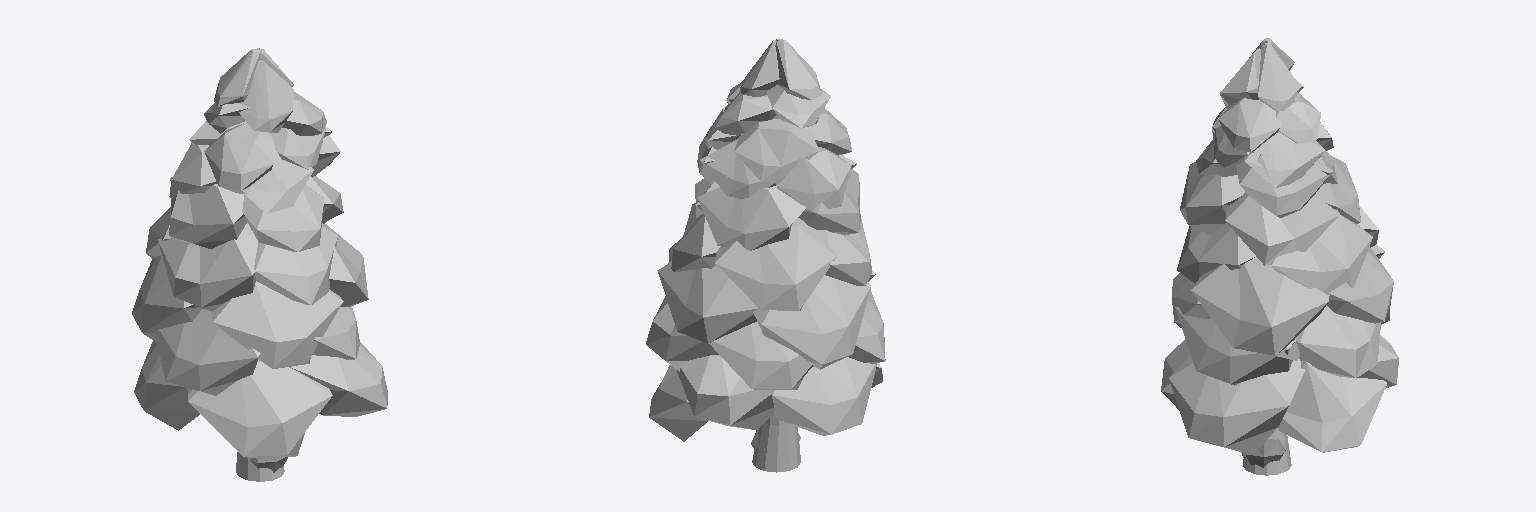
File: PineTree1.obj
The picture shows the model from 3 angles: view 1: azimuth 30°, elevation 25°; view 2: azimuth 150°, elevation 25°; view 3: azimuth 270°, elevation 25°; orthographic projection.
Visible parts, largest first — view 1: Cylinder; view 2: Cylinder; view 3: Cylinder, Cube.
Boxes of the visible parts, x1,y1,x2,y2 form: Cylinder: [132, 48, 387, 481]; Cylinder: [646, 39, 885, 472]; Cylinder: [1161, 38, 1398, 475]; Cube: [1241, 437, 1287, 467].
Bounding box in the file's own units: 9.76 × 19.1 × 9.68.